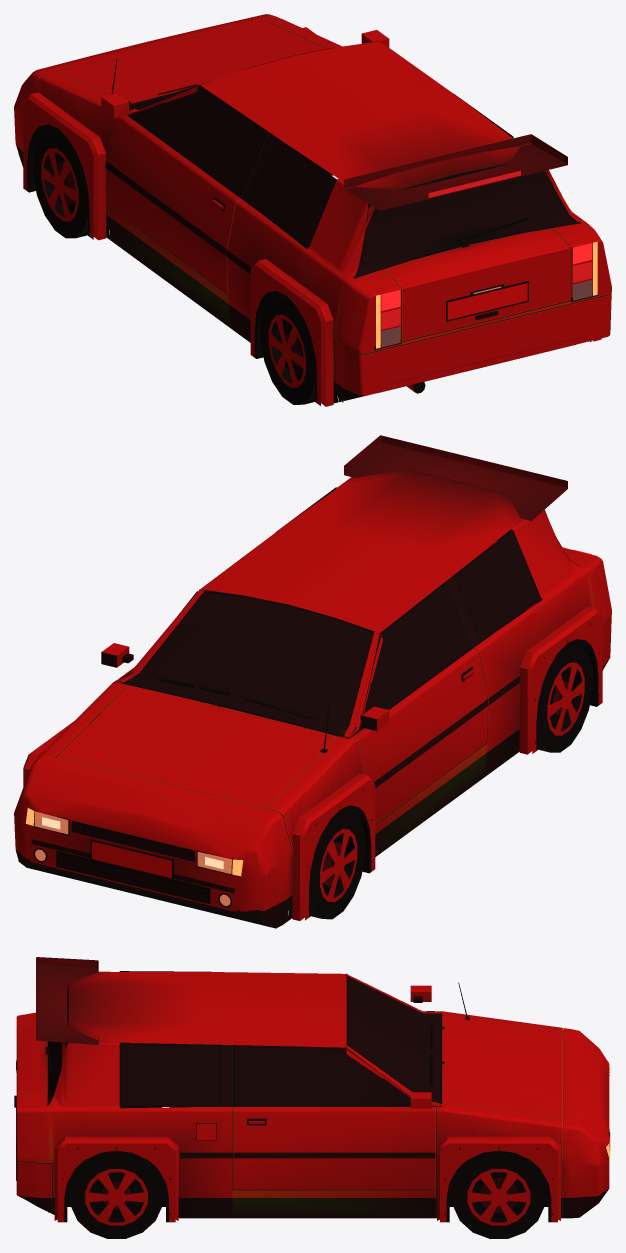
The model's file is body.glb.
3 renders of one model, top to bottom at view 1: azimuth 30°, elevation 25°; view 2: azimuth 150°, elevation 25°; view 3: azimuth 270°, elevation 25°, orthographic. The views are drawn at different scales.
Parts seen in each view (by area): view 1: body, bumper_r, door_l, hatch, glass_backlight, hood, glass_door_l, spoiler, glass_quarter_l, blister_rl, blister_fl, wheel_rl_mesh (+11 smaller); view 2: body, bumper_f, glass_windshield, hood, door_l, glass_door_l, spoiler, glass_quarter_l, blister_fl, blister_rl, wheel_fl_mesh, wheel_rl_mesh (+12 smaller); view 3: body, door_r, hood, glass_door_r, bumper_f, glass_windshield, wheel_fr_mesh, wheel_rr_mesh, glass_quarter_r, blister_rr, blister_fr, fender_fr (+11 smaller).
Boxes of the visible parts, <box> form: body: <box>107,41,611,403</box>; bumper_r: <box>334,293,611,402</box>; door_l: <box>106,115,240,293</box>; hatch: <box>383,228,570,341</box>; glass_backlight: <box>358,171,577,276</box>; hood: <box>57,21,326,103</box>; glass_door_l: <box>127,87,268,198</box>; spoiler: <box>344,134,567,210</box>; glass_quarter_l: <box>250,139,336,245</box>; blister_rl: <box>250,259,333,406</box>; blister_fl: <box>23,92,106,240</box>; wheel_rl_mesh: <box>260,296,337,404</box>; body: <box>200,457,611,856</box>; bumper_f: <box>14,755,291,928</box>; glass_windshield: <box>118,592,373,738</box>; hood: <box>57,685,337,808</box>; door_l: <box>353,648,487,824</box>; glass_door_l: <box>352,583,471,736</box>; spoiler: <box>344,435,567,520</box>; glass_quarter_l: <box>453,532,539,641</box>; blister_fl: <box>292,773,375,920</box>; blister_rl: <box>519,606,602,754</box>; wheel_fl_mesh: <box>286,810,365,919</box>; wheel_rl_mesh: <box>538,643,592,752</box>; body: <box>16,969,435,1218</box>; door_r: <box>233,1107,435,1189</box>; hood: <box>442,1016,562,1118</box>; glass_door_r: <box>235,1047,410,1105</box>; bumper_f: <box>562,1028,609,1218</box>; glass_windshield: <box>347,976,440,1106</box>; wheel_fr_mesh: <box>452,1153,544,1238</box>; wheel_rr_mesh: <box>70,1153,162,1238</box>; glass_quarter_r: <box>121,1045,219,1105</box>; blister_rr: <box>54,1136,178,1222</box>; blister_fr: <box>437,1136,560,1222</box>; fender_fr: <box>436,1102,562,1218</box>.
Bounding box in the file's own units: 1.84 × 1.38 × 4.
